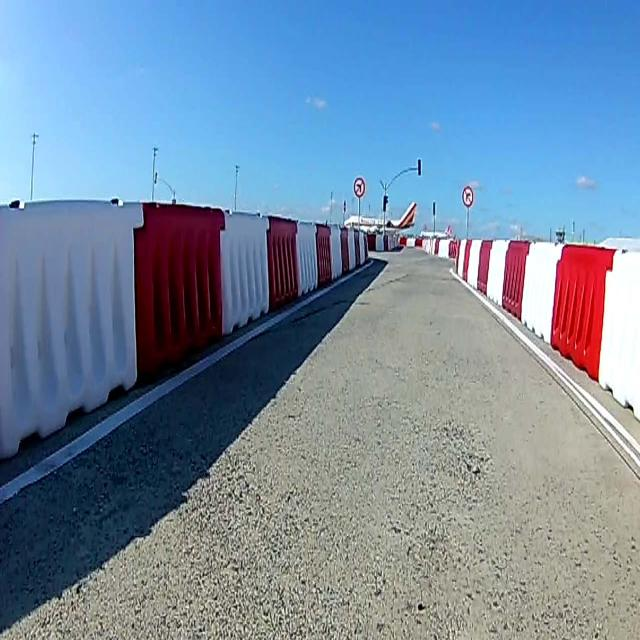sagadonulmez: (462, 187, 472, 208)
soladonulmez: (354, 178, 366, 197)
